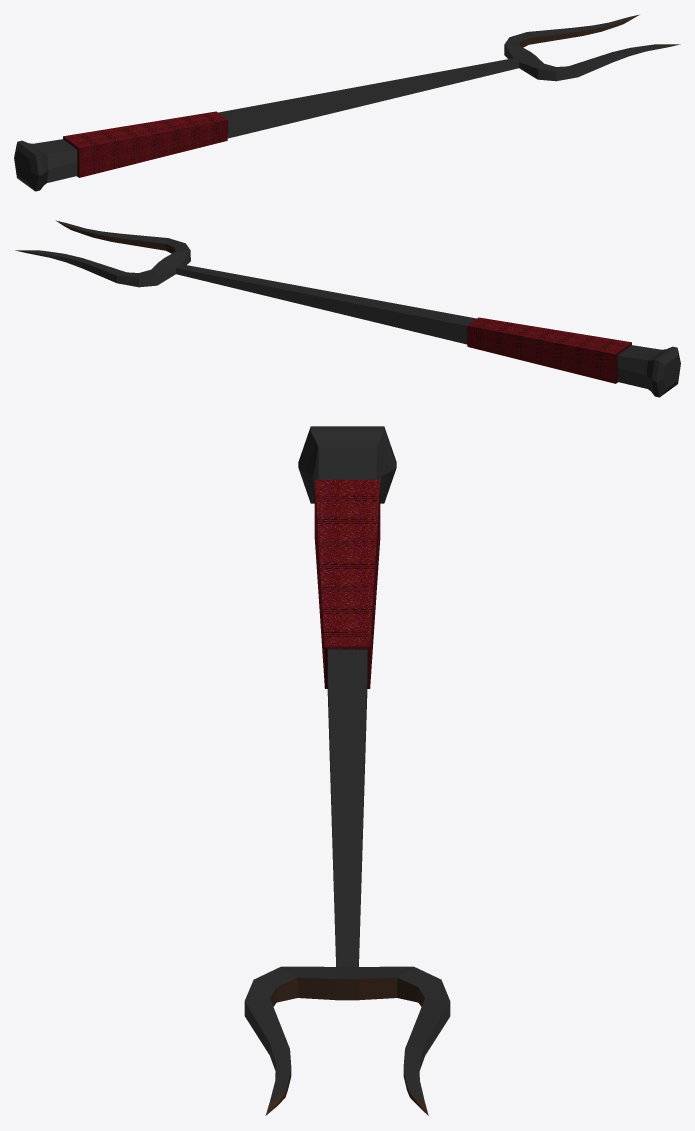
Rendered from WorldItem_BarbecueFork.fbx.
3 renders of one model, top to bottom at view 1: azimuth 30°, elevation 25°; view 2: azimuth 150°, elevation 25°; view 3: azimuth 270°, elevation 25°, orthographic. The views are drawn at different scales.
Visible parts, largest first — view 1: ZomboidBBQFork; view 2: ZomboidBBQFork; view 3: ZomboidBBQFork.
Boxes of the visible parts, bbox=[...] form: ZomboidBBQFork: bbox=[14, 14, 680, 191]; ZomboidBBQFork: bbox=[15, 220, 680, 397]; ZomboidBBQFork: bbox=[244, 426, 450, 1115].
Bounding box in the file's own units: 0.5019 × 0.0298 × 0.0701.
